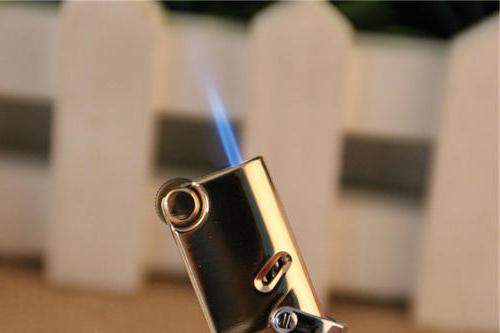fire: (181, 45, 254, 179)
